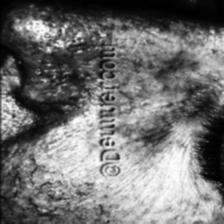Unclassified: (0, 102, 85, 224), (30, 15, 90, 96), (31, 5, 178, 33)
